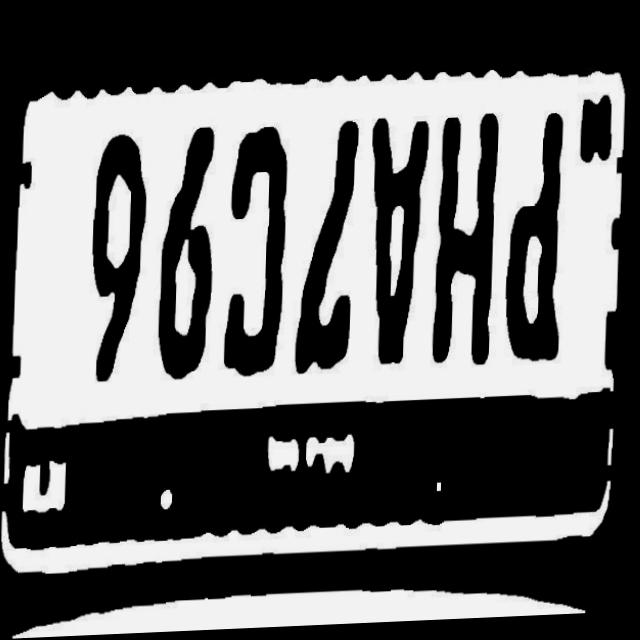6: (84, 124, 153, 391)
7: (295, 115, 364, 386)
9: (156, 116, 222, 390)
a: (365, 119, 434, 369)
c: (221, 124, 295, 395)
h: (431, 106, 503, 386)
p: (504, 111, 570, 379)
